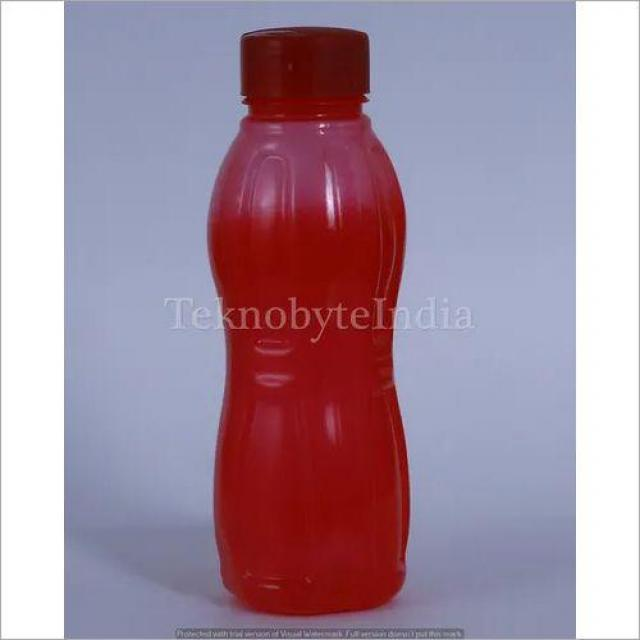plastic_bottle: (196, 18, 427, 630)
